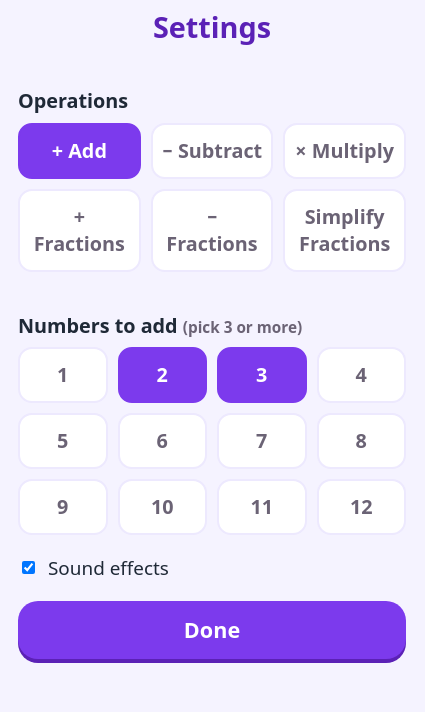
SettingsPanel › refuses to close with fewer than three numbers for an operation that needs them, and explains why
This screenshot has width=425, height=712.
Click the button "Done".
click(212, 630)  # box [18,601,406,659]
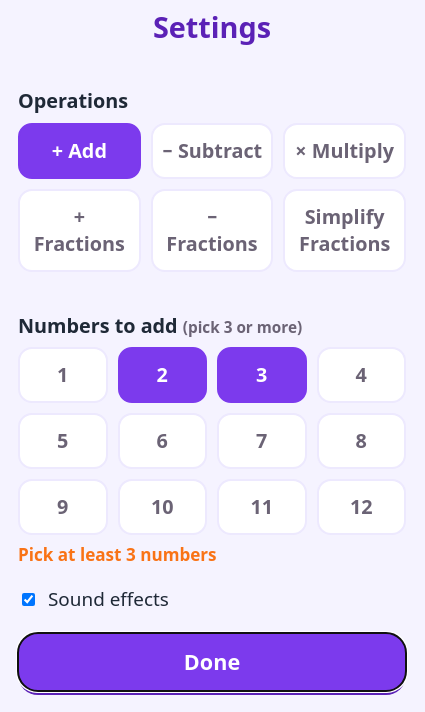
Expected: the text "Pick at least 3 numbers" is shown, [18,542,217,566]
